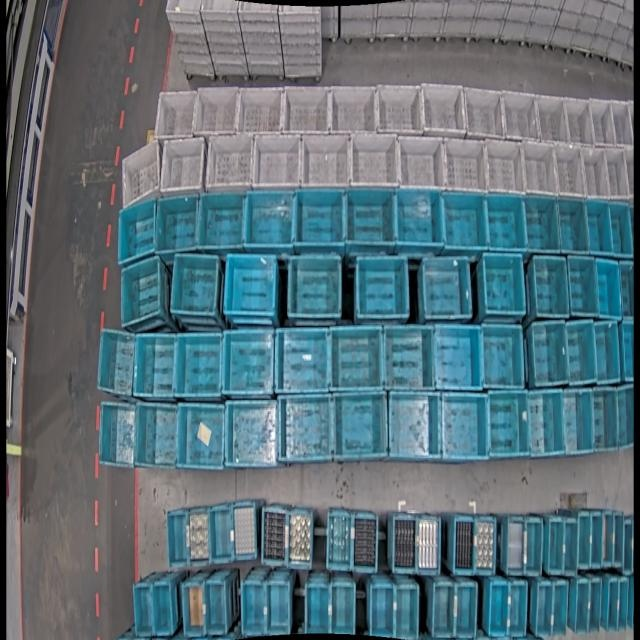Box: (287, 253, 343, 322), (222, 252, 278, 320), (328, 324, 384, 392), (355, 254, 410, 323), (221, 327, 274, 396), (176, 400, 228, 470), (228, 398, 280, 468), (274, 328, 329, 394), (292, 186, 347, 250), (284, 393, 334, 463), (119, 256, 166, 330), (422, 255, 473, 322), (336, 392, 387, 459), (175, 330, 224, 398), (244, 188, 296, 251), (168, 252, 219, 316), (130, 400, 178, 468), (342, 187, 394, 249), (434, 323, 481, 391), (300, 133, 352, 193), (252, 133, 302, 195), (130, 331, 176, 398), (389, 392, 434, 460), (393, 188, 443, 249), (196, 189, 245, 251), (97, 399, 141, 468), (384, 325, 429, 392), (348, 132, 398, 192), (204, 134, 252, 196), (155, 192, 202, 255), (481, 252, 525, 318), (440, 394, 484, 460), (156, 137, 206, 195), (486, 391, 529, 458), (397, 135, 445, 194), (439, 190, 486, 250), (116, 201, 158, 268), (374, 81, 424, 137), (481, 323, 523, 389), (329, 84, 379, 138), (283, 82, 333, 136), (97, 327, 135, 398), (155, 88, 203, 144), (422, 80, 468, 138), (235, 84, 284, 138), (122, 139, 159, 210), (442, 138, 487, 196), (529, 321, 568, 386), (483, 194, 526, 252), (195, 86, 240, 141), (499, 88, 541, 144), (530, 255, 567, 318), (463, 85, 505, 140), (483, 140, 524, 193), (521, 142, 558, 198), (522, 195, 558, 252), (555, 196, 589, 254), (562, 322, 594, 383), (552, 146, 587, 200), (562, 391, 592, 454), (538, 391, 566, 456), (578, 147, 612, 200), (566, 256, 596, 316), (261, 506, 289, 568), (590, 389, 618, 451), (561, 96, 595, 147), (593, 322, 621, 383), (536, 96, 569, 147), (284, 507, 311, 568), (208, 504, 235, 565), (232, 500, 259, 561), (328, 508, 354, 570), (586, 197, 613, 255), (594, 260, 621, 318), (352, 510, 376, 573), (241, 580, 267, 637), (391, 514, 416, 573), (392, 583, 418, 639), (188, 509, 212, 569), (370, 582, 396, 637), (587, 97, 615, 148), (166, 511, 190, 570), (603, 148, 630, 200), (453, 514, 476, 575), (416, 514, 439, 574), (265, 584, 290, 639), (204, 580, 228, 637), (306, 582, 332, 634), (149, 581, 173, 637), (474, 514, 496, 574), (432, 582, 456, 637), (454, 582, 477, 638), (182, 580, 204, 638), (610, 201, 633, 256), (487, 581, 509, 637), (330, 585, 355, 634), (505, 515, 525, 574), (507, 584, 527, 640), (612, 100, 634, 150), (617, 384, 634, 448), (526, 516, 544, 574), (534, 580, 552, 638), (133, 584, 152, 637), (551, 582, 569, 637), (619, 261, 634, 321), (550, 516, 565, 574), (574, 579, 589, 634), (590, 510, 604, 568), (612, 511, 626, 569), (578, 510, 592, 568), (588, 579, 602, 634), (622, 320, 634, 383), (603, 510, 616, 568), (606, 577, 619, 632), (617, 577, 629, 632), (597, 578, 609, 632), (624, 519, 634, 576), (237, 0, 278, 13), (201, 0, 240, 13), (165, 0, 202, 13), (278, 5, 321, 13)
